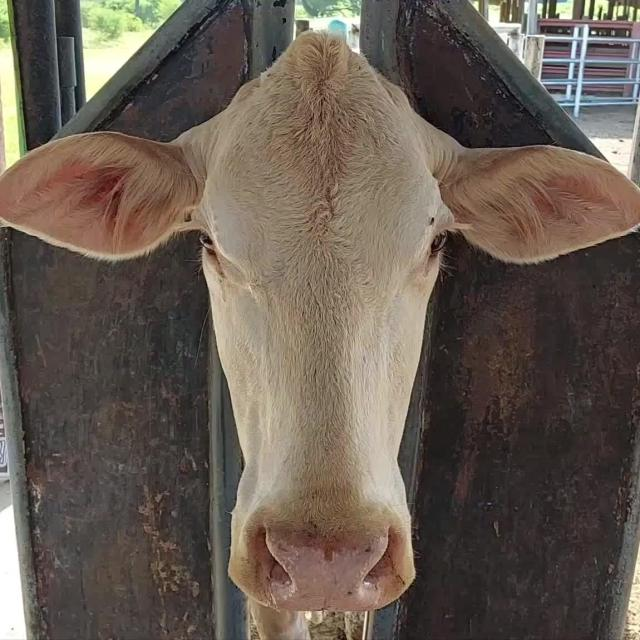cowFace: (194, 33, 449, 608)
